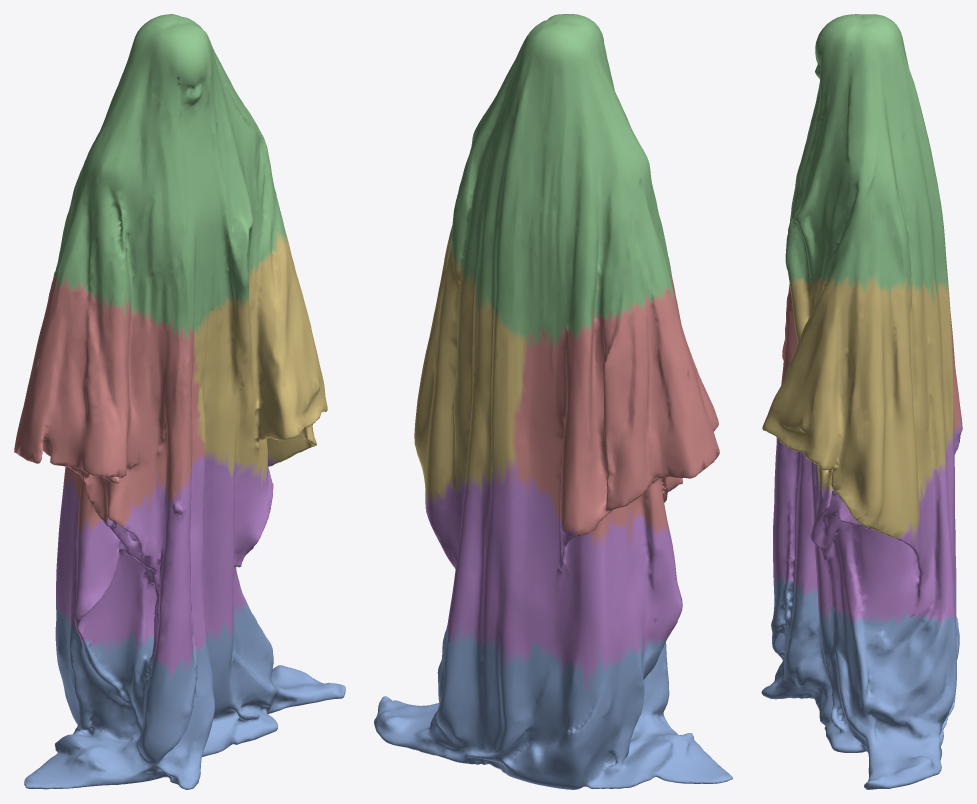
Rendered from ghost_3d.glb.
3 renders of one model, left to right at view 1: azimuth 30°, elevation 25°; view 2: azimuth 150°, elevation 25°; view 3: azimuth 270°, elevation 25°, orthographic. The views are drawn at different scales.
Parts seen in each view (by area): view 1: world; view 2: world; view 3: world.
Part boxes in pixels (left/top/right/bottom): world: left=14, top=14, right=345, bottom=789; world: left=374, top=14, right=732, bottom=789; world: left=761, top=14, right=962, bottom=789.
Bounding box in the file's own units: 0.9686 × 2 × 0.5272.
